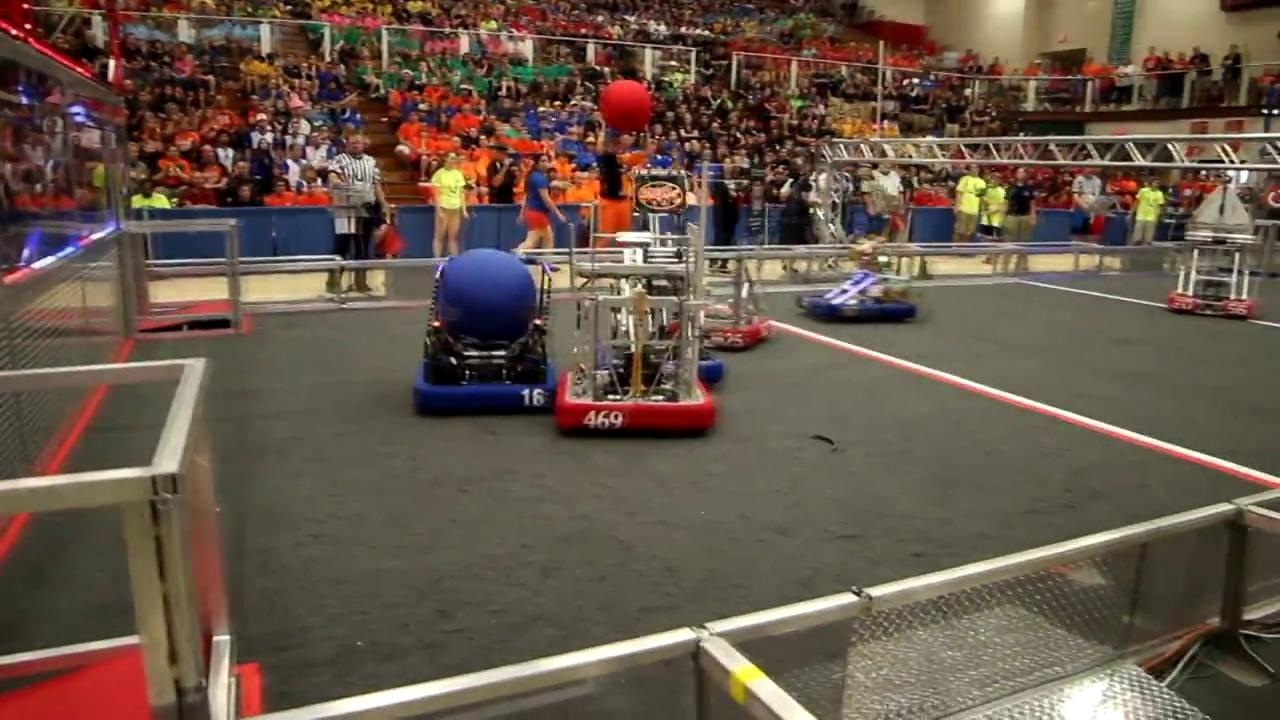robot: (554, 218, 718, 440), (412, 248, 559, 414), (1168, 178, 1265, 323), (791, 240, 925, 327), (687, 253, 779, 356)
